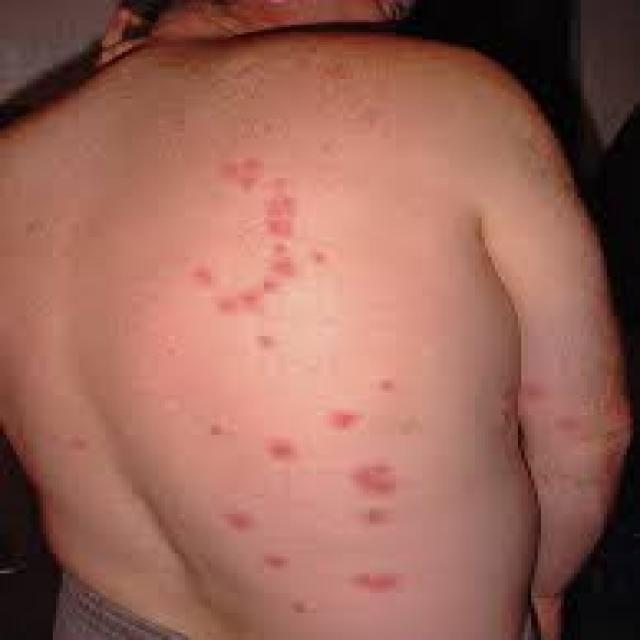tahta-kurusu: (192, 156, 374, 335), (330, 462, 426, 500), (186, 503, 285, 537), (316, 563, 426, 592), (254, 432, 307, 471), (345, 502, 413, 529), (324, 403, 363, 436)
